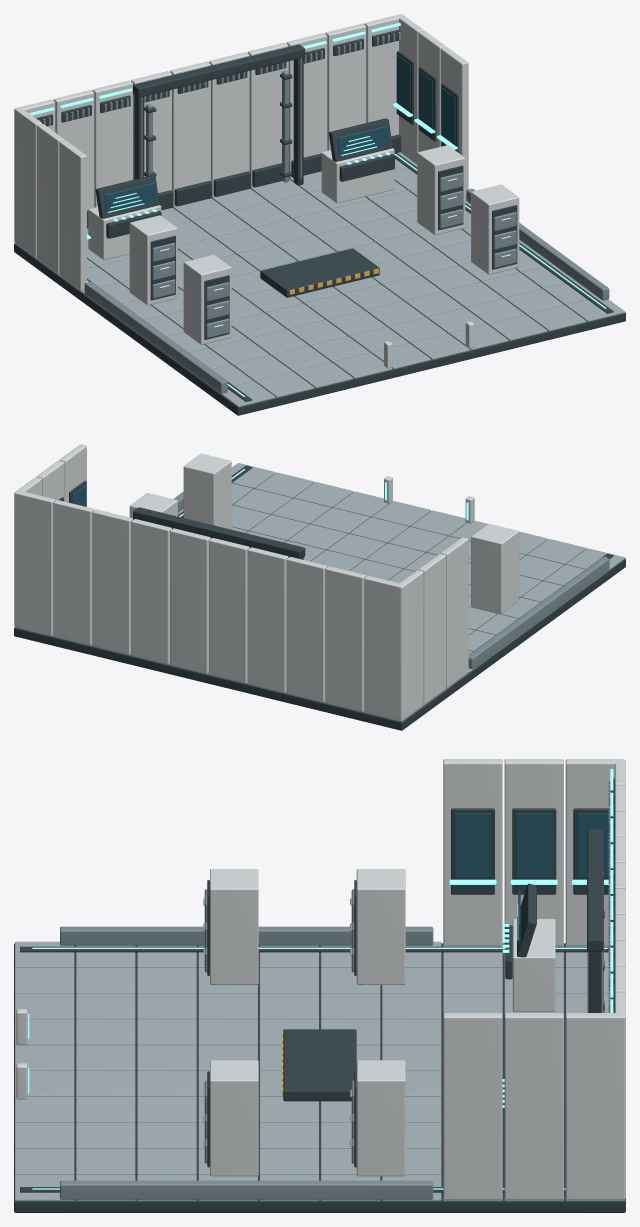
Rendered from engineering-interior.glb.
3 renders of one model, top to bottom at view 1: azimuth 30°, elevation 25°; view 2: azimuth 150°, elevation 25°; view 3: azimuth 270°, elevation 25°, orthographic. The views are drawn at different scales.
Parts seen in each view (by area): view 1: Ceramic, Deck, Structure, Service rails, Decorative screen glass, Decorative cyan lenses; view 2: Ceramic, Deck, Structure, Service rails; view 3: Deck, Ceramic, Structure, Service rails, Decorative screen glass, Decorative cyan lenses.
Boxes of the visible parts, x1,y1,x2,y2 form: Ceramic: [14, 14, 519, 368]; Deck: [14, 152, 625, 406]; Structure: [14, 29, 625, 415]; Service rails: [38, 32, 609, 393]; Decorative screen glass: [104, 54, 455, 212]; Decorative cyan lenses: [29, 23, 606, 396]; Ceramic: [14, 444, 519, 720]; Deck: [14, 463, 625, 721]; Structure: [14, 465, 625, 730]; Service rails: [173, 492, 609, 669]; Deck: [15, 941, 624, 1200]; Ceramic: [16, 759, 625, 1199]; Structure: [14, 778, 625, 1212]; Service rails: [60, 781, 611, 1199]; Decorative screen glass: [454, 813, 609, 947]; Decorative cyan lenses: [28, 769, 613, 1189].
Bounding box in the file's own units: 10 × 3.61 × 10.
